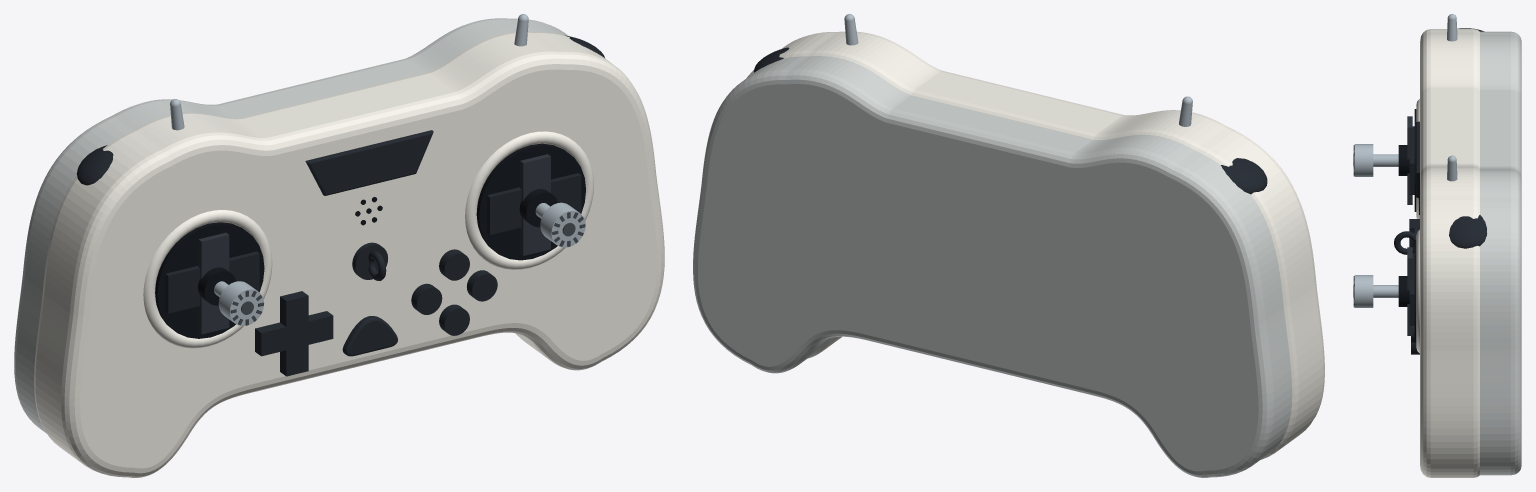
Rendered from controller.glb.
The picture shows the model from 3 angles, left to right: view 1: azimuth 30°, elevation 25°; view 2: azimuth 150°, elevation 25°; view 3: azimuth 270°, elevation 25°; orthographic projection. The views are drawn at different scales.
Visible parts, largest first — view 1: Upper shell, Lower shell, Raised ivory collar (×2), Black stick well (×2), Horizontal gimbal carrier (×2), Black trapezoid badge, Vertical gimbal carrier (×2), Round face button (×4), Machined thumb cap (×2), D-pad vertical, D-pad horizontal, Stick boot (×2) (+3 smaller); view 2: Lower shell, Upper shell, Black shoulder button; view 3: Upper shell, Lower shell, Machined thumb cap (×2), Black shoulder button, Vertical gimbal carrier (×2), Horizontal gimbal carrier (×2), Stick boot (×2), Stick shaft (×2), Black stick well (×2), Raised ivory collar, Toggle shaft (×2), Black trapezoid badge (+1 smaller).
Part boxes in pixels (left/top/right/bottom): Upper shell: left=34, top=32, right=664, bottom=477; Lower shell: left=14, top=18, right=568, bottom=433; Raised ivory collar (×2): left=143, top=131, right=593, bottom=348; Black stick well (×2): left=155, top=143, right=585, bottom=338; Horizontal gimbal carrier (×2): left=165, top=173, right=581, bottom=313; Black trapezoid badge: left=305, top=130, right=433, bottom=195; Vertical gimbal carrier (×2): left=198, top=154, right=550, bottom=334; Round face button (×4): left=411, top=249, right=497, bottom=335; Machined thumb cap (×2): left=218, top=202, right=585, bottom=326; D-pad vertical: left=280, top=291, right=308, bottom=376; D-pad horizontal: left=255, top=311, right=333, bottom=356; Stick boot (×2): left=198, top=189, right=557, bottom=305; Lower shell: left=693, top=56, right=1292, bottom=477; Upper shell: left=747, top=31, right=1324, bottom=459; Black shoulder button: left=1221, top=158, right=1267, bottom=194; Upper shell: left=1420, top=29, right=1479, bottom=477; Lower shell: left=1480, top=31, right=1521, bottom=475; Machined thumb cap (×2): left=1354, top=144, right=1373, bottom=307; Black shoulder button: left=1449, top=215, right=1487, bottom=248; Vertical gimbal carrier (×2): left=1407, top=116, right=1412, bottom=335; Horizontal gimbal carrier (×2): left=1409, top=126, right=1414, bottom=325; Stick boot (×2): left=1398, top=145, right=1409, bottom=306; Stick shaft (×2): left=1373, top=154, right=1398, bottom=297; Black stick well (×2): left=1414, top=109, right=1416, bottom=342; Raised ivory collar: left=1416, top=229, right=1419, bottom=353; Toggle shaft (×2): left=1447, top=19, right=1457, bottom=181; Black trapezoid badge: left=1416, top=121, right=1419, bottom=197.
Bounding box in the file's own units: 0.2172 × 0.1227 × 0.063.
